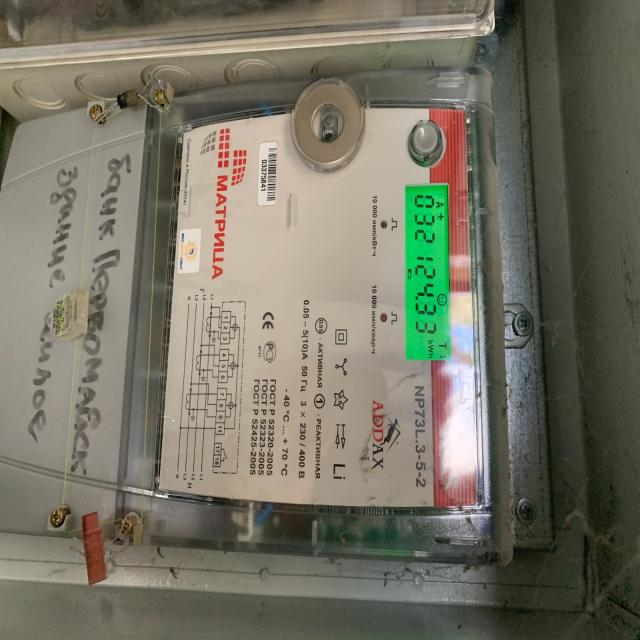Display: (404, 185, 452, 366)
meter_matrica: (36, 74, 495, 570)
meter_number: (257, 140, 280, 204)
seal_elso: (47, 284, 101, 346)
